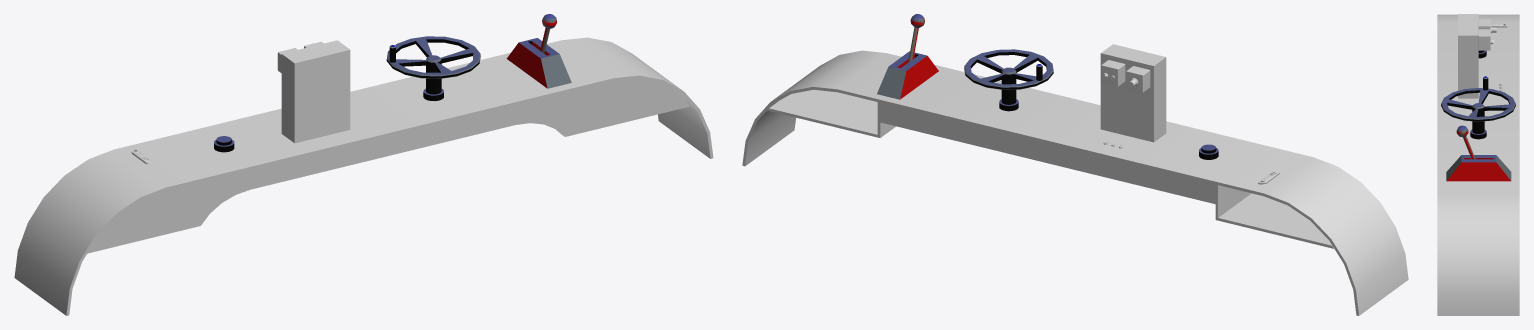
File: FBXSelected_02.fbx
3 views of the same model, side by side, from view 1: azimuth 30°, elevation 25°; view 2: azimuth 150°, elevation 25°; view 3: azimuth 270°, elevation 25° (orthographic). The views are drawn at different scales.
Visible parts, largest first — view 1: Table, Potentiometer, TurnThis, Lever; view 2: Table, deskUnderside, DrawerFront, Potentiometer, TurnThis, Lever, låda, låda (2); view 3: Table, Potentiometer, TurnThis, Lever, låda, PullThis, låda (2), Crank, OrTurnThis, Kniv_02.
Part boxes in pixels (x1,y1,x2,y2): Table: (14, 37, 713, 315); Potentiometer: (281, 40, 350, 143); TurnThis: (386, 36, 480, 94); Lever: (506, 38, 571, 88); Table: (742, 50, 1408, 315); deskUnderside: (767, 89, 1334, 248); DrawerFront: (880, 103, 1215, 204); Potentiometer: (1100, 44, 1166, 142); TurnThis: (964, 49, 1053, 104); Lever: (877, 51, 938, 99); låda: (1101, 60, 1125, 86); låda (2): (1126, 66, 1150, 92); Table: (1437, 14, 1519, 315); Potentiometer: (1458, 14, 1478, 98); TurnThis: (1441, 88, 1515, 133); Lever: (1446, 155, 1511, 181); låda: (1478, 29, 1490, 50); PullThis: (1456, 125, 1475, 159); låda (2): (1478, 19, 1490, 29); Crank: (1470, 129, 1486, 139); OrTurnThis: (1483, 76, 1488, 90); Kniv_02: (1490, 23, 1507, 27).
Bounding box in the file's own units: 719 × 196 × 100.
